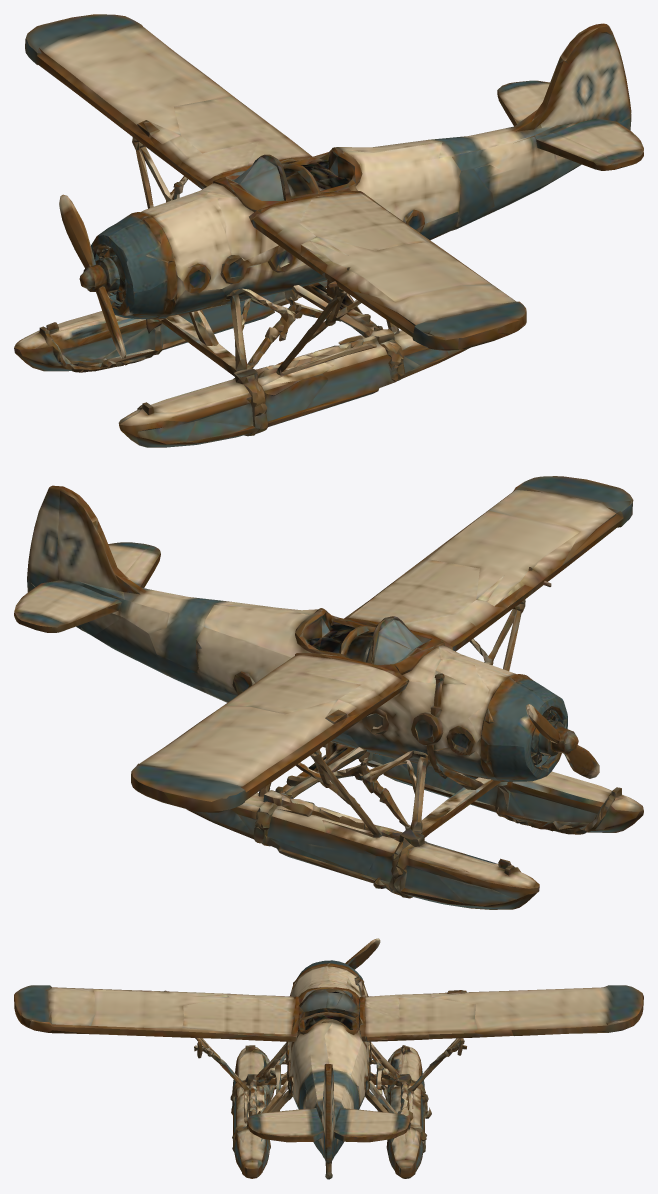
File: lake-seaplane.glb
3 views of the same model, one above another, from view 1: azimuth 30°, elevation 25°; view 2: azimuth 150°, elevation 25°; view 3: azimuth 270°, elevation 25° (orthographic). The views are drawn at different scales.
Visible parts, largest first — view 1: output_unwrapped; view 2: output_unwrapped; view 3: output_unwrapped.
Boxes of the visible parts, box(x1,y1,x2,y2) form: output_unwrapped: box(14, 14, 643, 447); output_unwrapped: box(14, 476, 643, 909); output_unwrapped: box(14, 938, 643, 1179).
Bounding box in the file's own units: 1.47 × 0.6729 × 1.9.
Materials: 1 (1 with a texture image).
